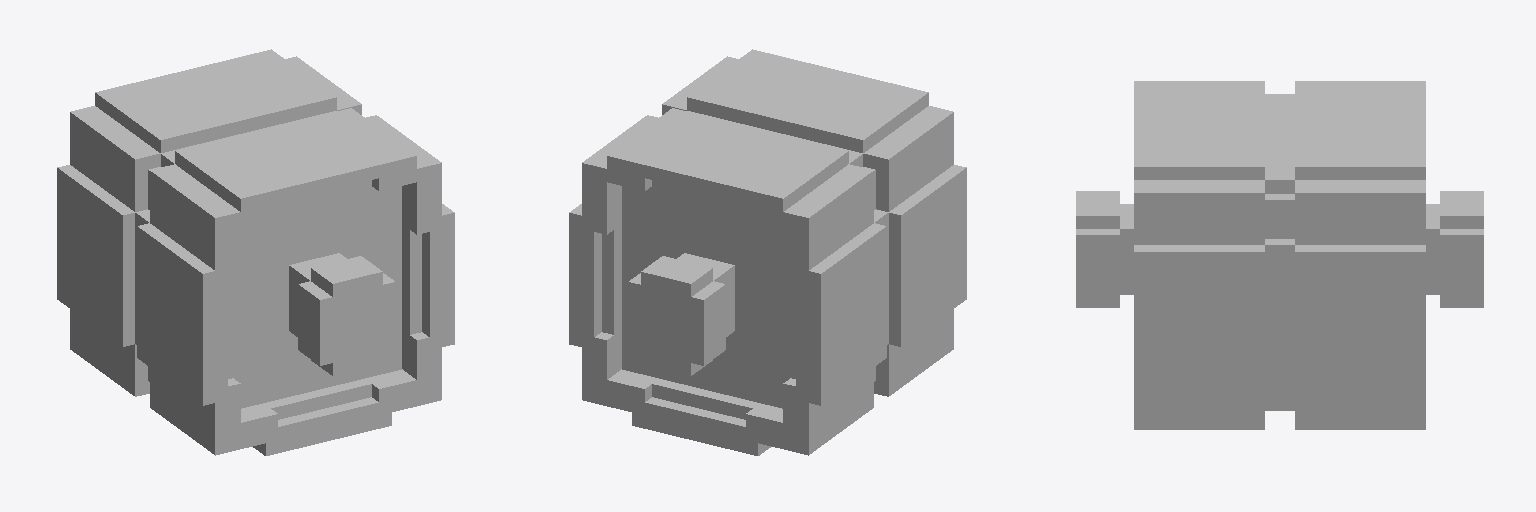
The model's file is meat.obj.
3 views of the same model, side by side, from view 1: azimuth 30°, elevation 25°; view 2: azimuth 150°, elevation 25°; view 3: azimuth 270°, elevation 25° (orthographic).
Parts seen in each view (by area): view 1: meat; view 2: meat; view 3: meat.
Part boxes in pixels (bbox=[...]): meat: bbox=[57, 49, 454, 455]; meat: bbox=[569, 49, 966, 455]; meat: bbox=[1076, 81, 1483, 429].
Size of the model in its own units: 20 by 20 by 28.